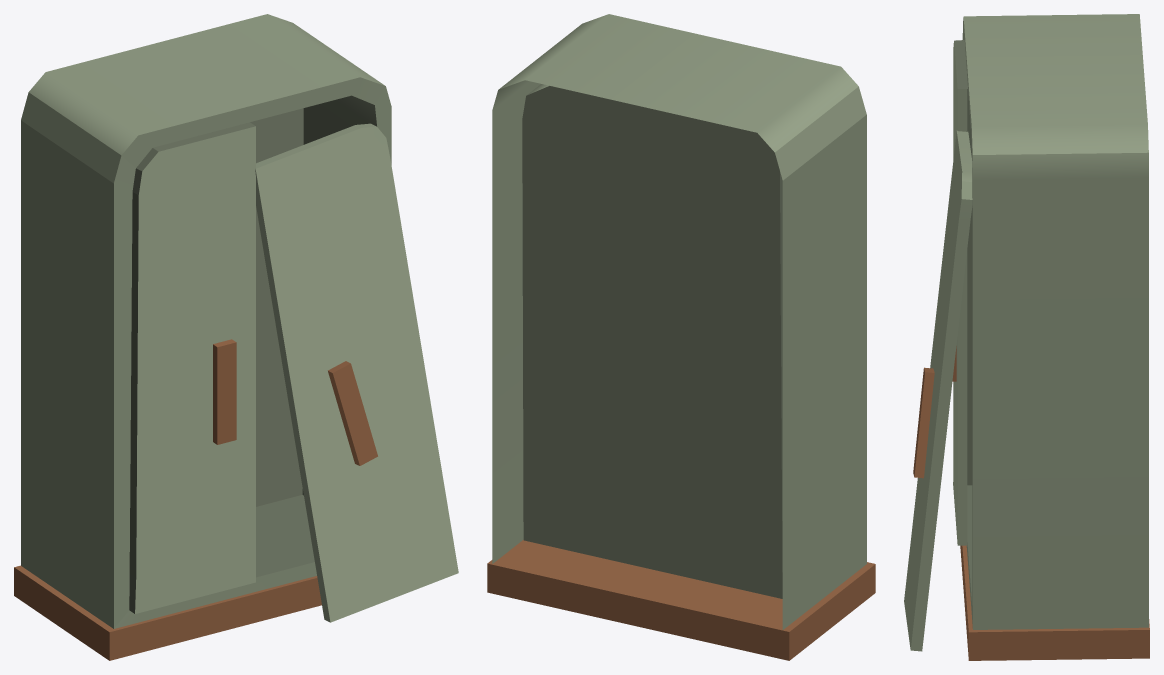
File: MSH_QuestObject_box_01.fbx
3 renders of one model, left to right at view 1: azimuth 30°, elevation 25°; view 2: azimuth 150°, elevation 25°; view 3: azimuth 270°, elevation 25°, orthographic.
Parts seen in each view (by area): view 1: MSH_QuestObject_box_01; view 2: MSH_QuestObject_box_01; view 3: MSH_QuestObject_box_01.
Part boxes in pixels (x1,y1,x2,y2): MSH_QuestObject_box_01: (14, 14, 458, 660); MSH_QuestObject_box_01: (487, 14, 875, 660); MSH_QuestObject_box_01: (904, 14, 1149, 660).
Bounding box in the file's own units: 1.71 × 2.55 × 1.1.
